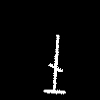double_crochet: (44, 35, 65, 93)
